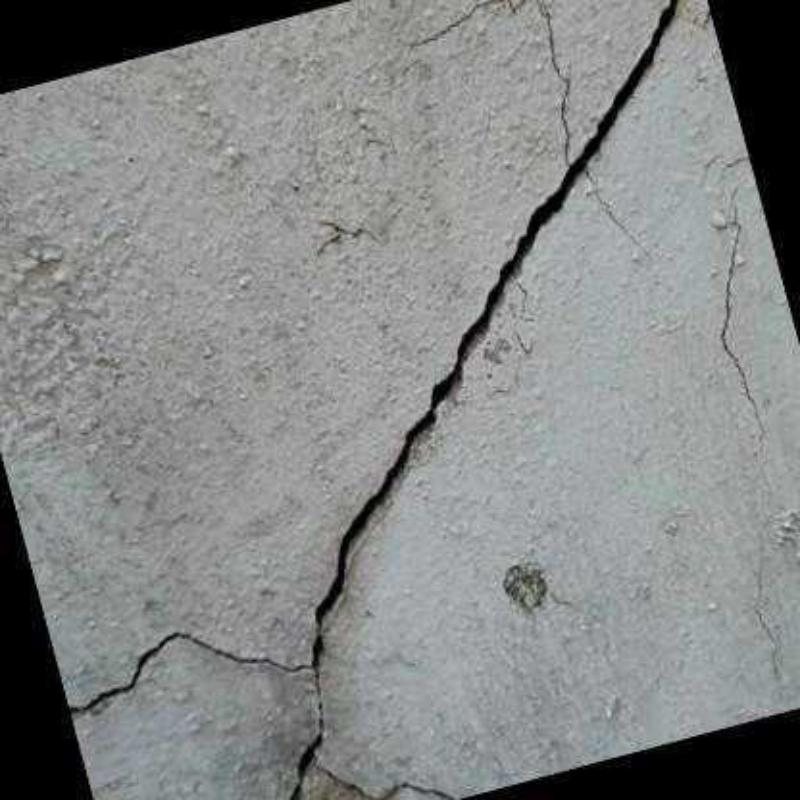crack: (70, 1, 679, 798), (719, 219, 767, 435), (533, 0, 573, 165), (407, 3, 527, 51), (583, 167, 648, 254)
